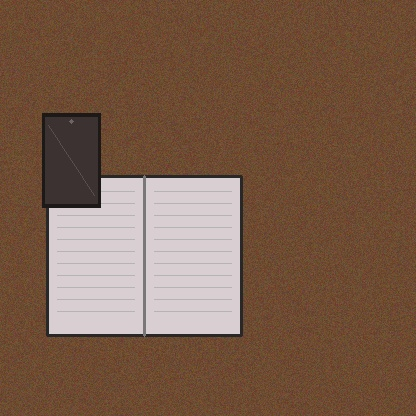book: (47, 176, 241, 335)
cell_phone: (42, 113, 100, 207)
